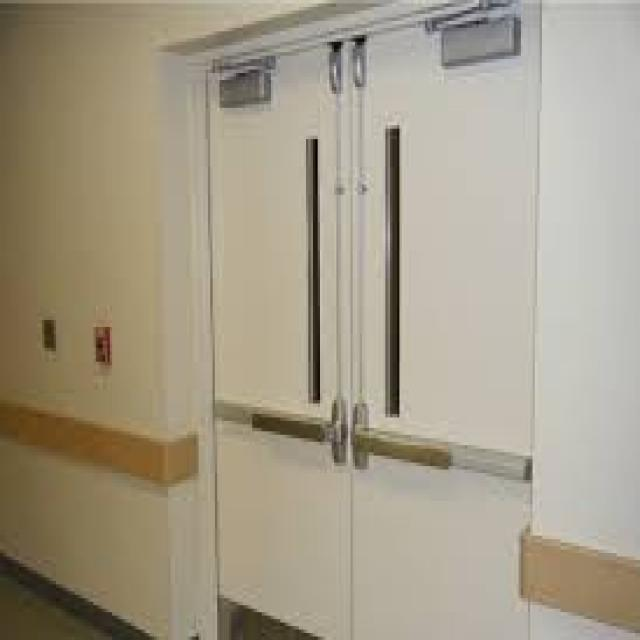door: (204, 7, 536, 640)
